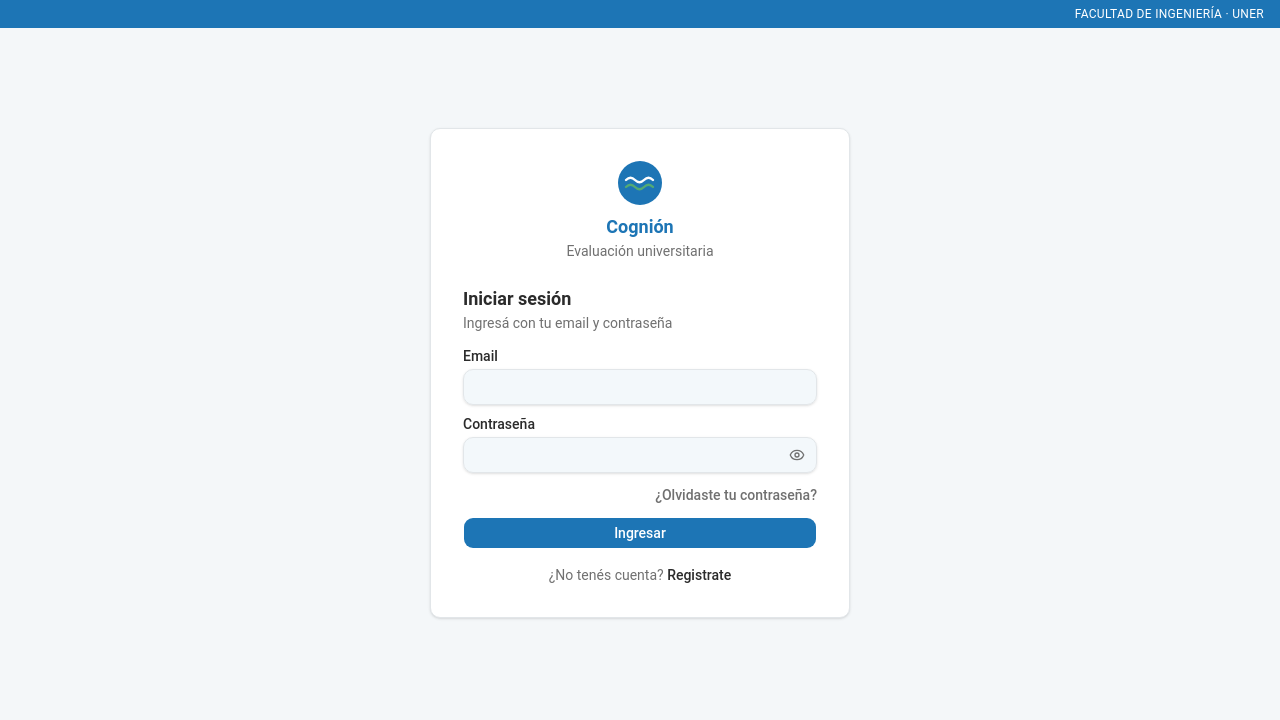
Test case: router (integración) › Recuperación de contraseña (US-ADJ-40) › Login → clic en '¿Olvidaste tu contraseña?' → pantalla de solicitud, dentro del layout de auth
Expected: the heading "Iniciar sesión" is shown, 463,288 -> 571,309
Step 1. Click the link "¿Olvidaste tu contraseña?" → (736, 495), box 655,485 -> 817,505
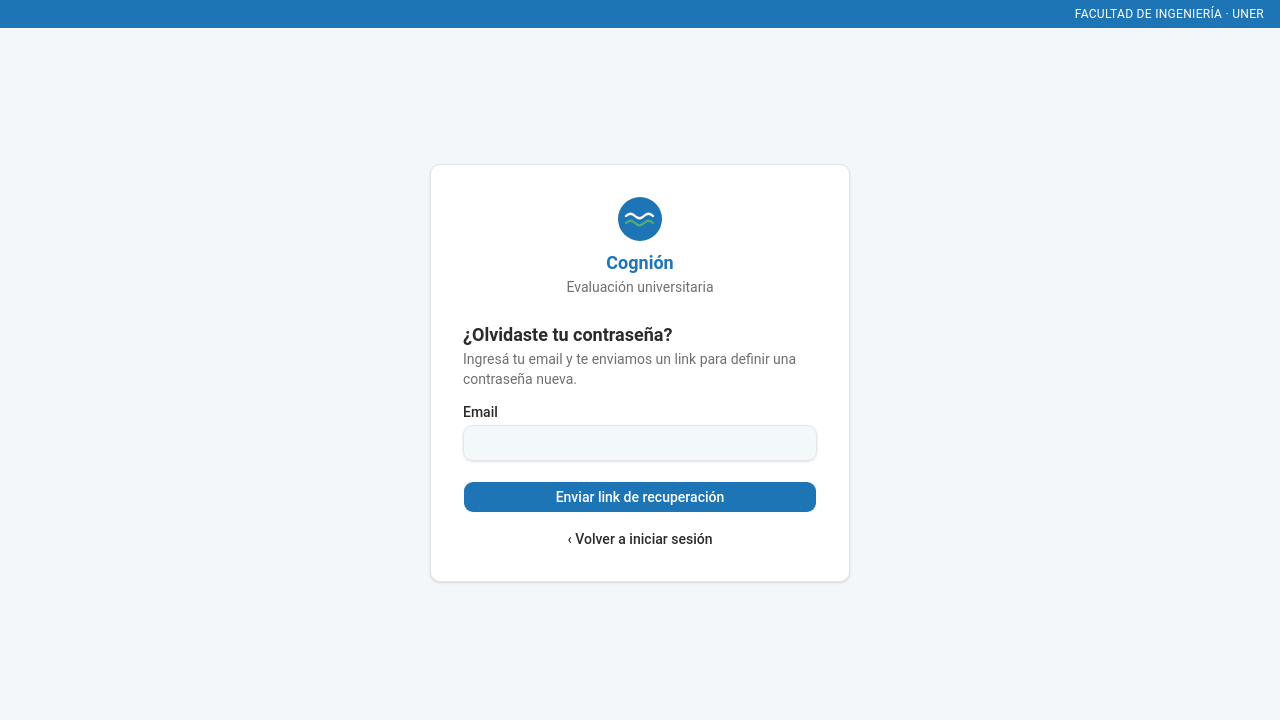
Result: the heading "¿Olvidaste tu contraseña?" is shown at 463,324 -> 672,345
